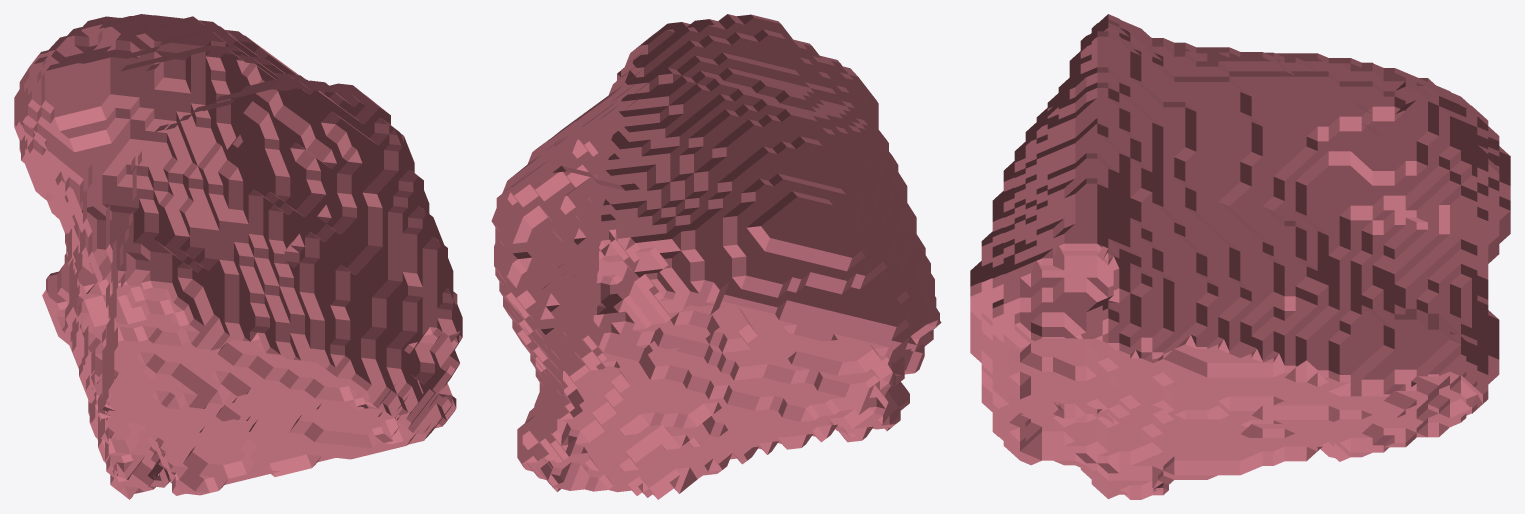
The model's file is region_0118_PPa__parvocellular_preoptic_nucleus__anterior_part_.glb.
3 renders of one model, left to right at view 1: azimuth 30°, elevation 25°; view 2: azimuth 150°, elevation 25°; view 3: azimuth 270°, elevation 25°, orthographic. The views are drawn at different scales.
Parts seen in each view (by area): view 1: world; view 2: world; view 3: world.
Boxes of the visible parts, box(x1,y1,x2,y2) form: world: box(14, 14, 462, 499); world: box(491, 14, 941, 499); world: box(970, 14, 1510, 499).
Size of the model in its own units: 0.296 by 0.312 by 0.392.
